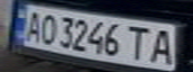2: (69, 16, 90, 53)
3: (54, 15, 78, 49)
4: (84, 18, 109, 55)
6: (103, 20, 127, 58)
A: (145, 26, 181, 64), (18, 8, 45, 43)
O: (36, 11, 60, 46)
T: (124, 24, 154, 61)
